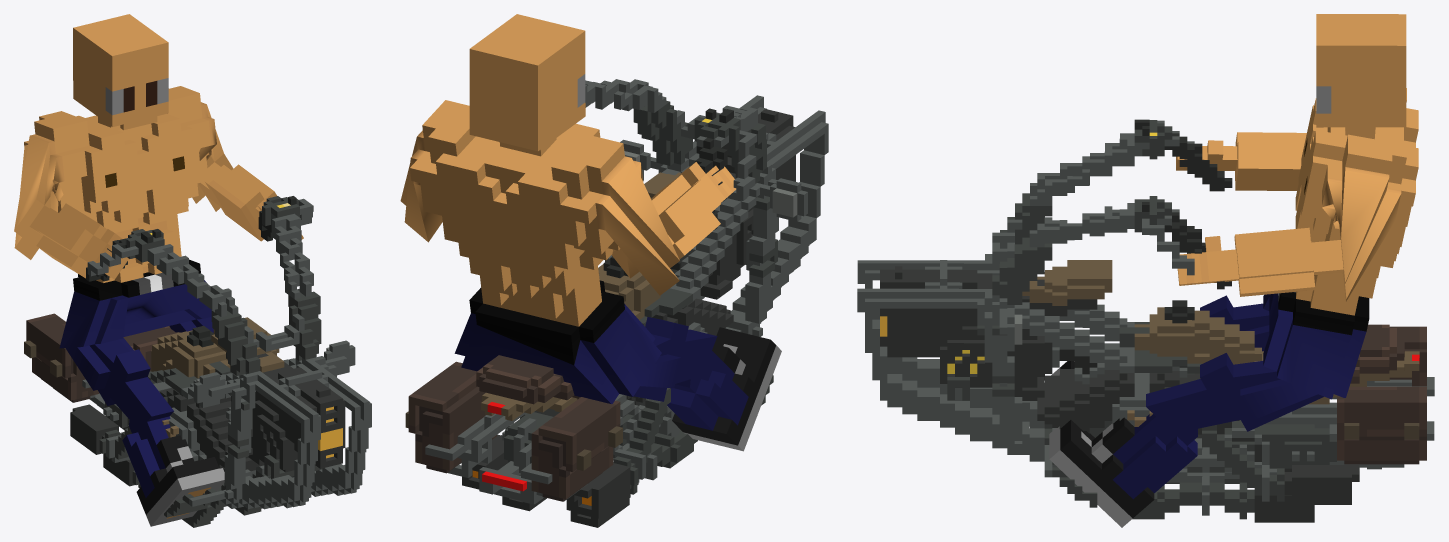
Rendered from OnChopper.obj.
3 views of the same model, side by side, from view 1: azimuth 30°, elevation 25°; view 2: azimuth 150°, elevation 25°; view 3: azimuth 270°, elevation 25° (orthographic). The views are drawn at different scales.
Bounding box in the file's own units: 4.04 × 6.91 × 7.7.
2 materials, 2 textured.
